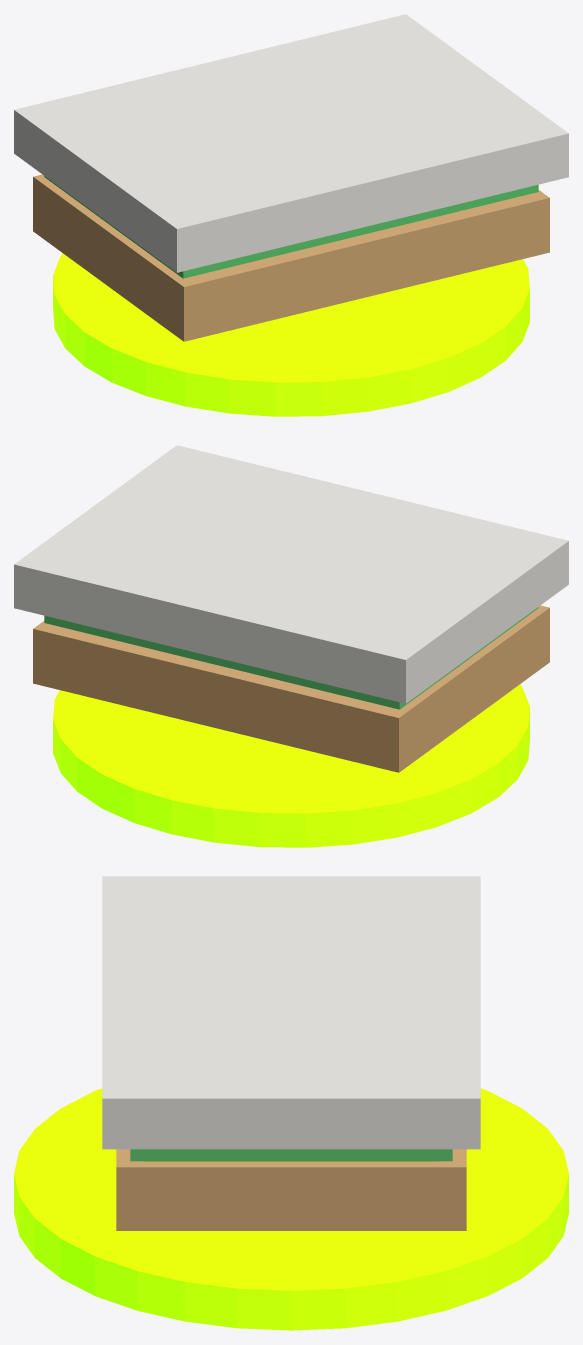
The model's file is food_sandwich.glb.
The picture shows the model from 3 angles, top to bottom: view 1: azimuth 30°, elevation 25°; view 2: azimuth 150°, elevation 25°; view 3: azimuth 270°, elevation 25°; orthographic projection. The views are drawn at different scales.
Visible parts, largest first — view 1: 01_11_Popular_Food_Sandwich_part_02, 01_11_Popular_Food_Sandwich_ROOT_base, 01_11_Popular_Food_Sandwich_part_01, 01_11_Popular_Food_Sandwich_part_03; view 2: 01_11_Popular_Food_Sandwich_part_02, 01_11_Popular_Food_Sandwich_ROOT_base, 01_11_Popular_Food_Sandwich_part_01, 01_11_Popular_Food_Sandwich_part_03; view 3: 01_11_Popular_Food_Sandwich_part_02, 01_11_Popular_Food_Sandwich_ROOT_base, 01_11_Popular_Food_Sandwich_part_01, 01_11_Popular_Food_Sandwich_part_03.
Boxes of the visible parts, bbox=[...] form: 01_11_Popular_Food_Sandwich_part_02: bbox=[14, 14, 568, 272]; 01_11_Popular_Food_Sandwich_ROOT_base: bbox=[53, 253, 529, 416]; 01_11_Popular_Food_Sandwich_part_01: bbox=[33, 174, 549, 341]; 01_11_Popular_Food_Sandwich_part_03: bbox=[44, 176, 538, 278]; 01_11_Popular_Food_Sandwich_part_02: bbox=[14, 445, 568, 703]; 01_11_Popular_Food_Sandwich_ROOT_base: bbox=[53, 684, 529, 847]; 01_11_Popular_Food_Sandwich_part_01: bbox=[33, 605, 549, 772]; 01_11_Popular_Food_Sandwich_part_03: bbox=[44, 607, 538, 709]; 01_11_Popular_Food_Sandwich_part_02: bbox=[102, 876, 480, 1149]; 01_11_Popular_Food_Sandwich_ROOT_base: bbox=[14, 1088, 568, 1330]; 01_11_Popular_Food_Sandwich_part_01: bbox=[116, 1149, 466, 1230]; 01_11_Popular_Food_Sandwich_part_03: bbox=[130, 1149, 452, 1161].
Size of the model in its own units: 0.76 by 0.3412 by 0.76.
